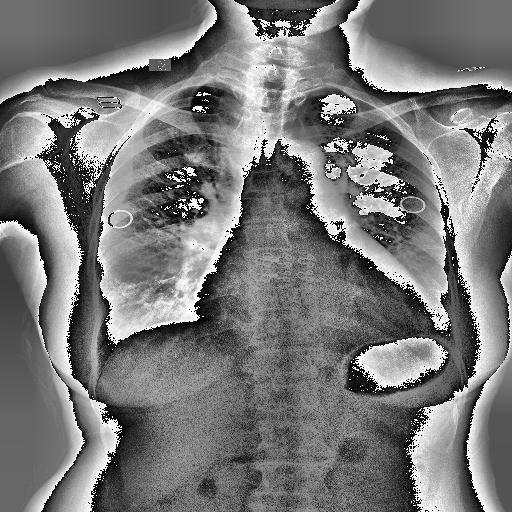0- Aortic enlargement: (274, 140, 327, 198)
3- Cardiomegaly: (192, 271, 434, 334), (191, 276, 435, 334), (192, 286, 433, 340)
